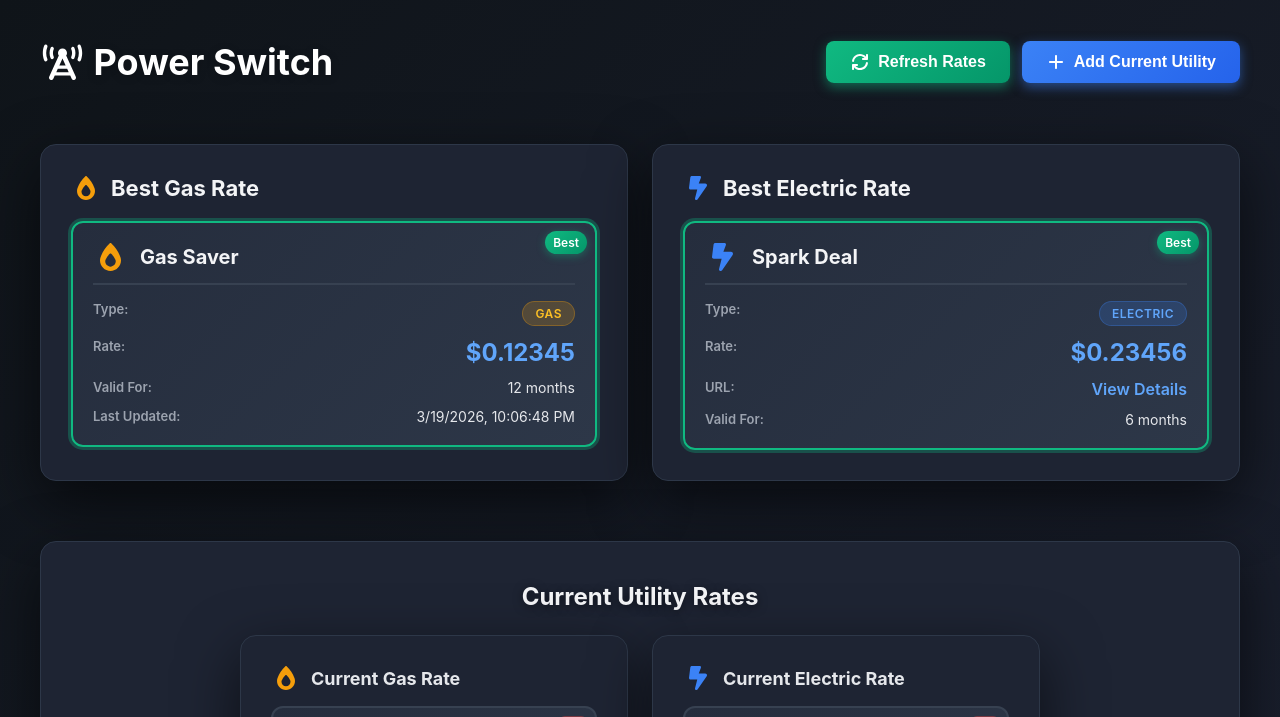
Test case: App › handleRefreshRates › button is disabled while refresh is in progress
The image size is (1280, 717).
Expected: the heading "Gas Saver" is shown, left=140, top=245, right=239, bottom=269
Click refresh button
Click the button "Refresh Rates" at (918, 62), box left=826, top=41, right=1010, bottom=83
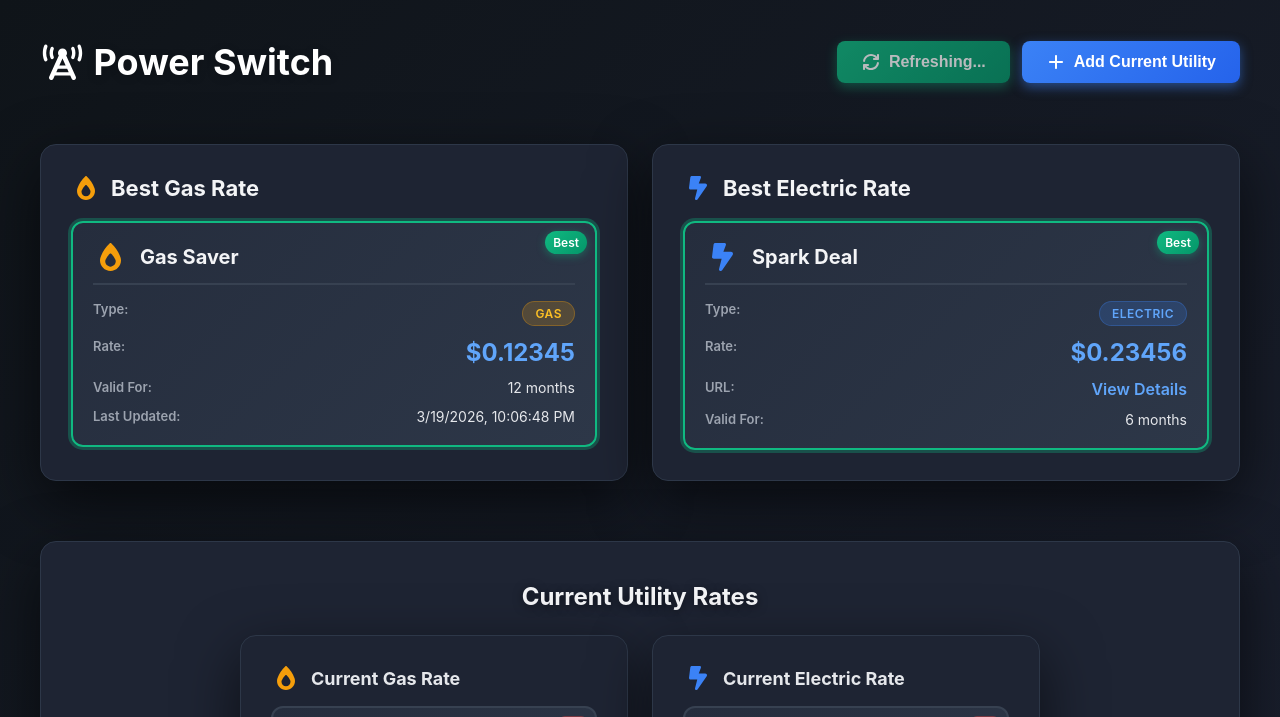
Now the button "Refreshing..." is disabled
Try clicking again - should not trigger another fetch
Click the button "Refreshing..." at (923, 62), box left=837, top=41, right=1010, bottom=83
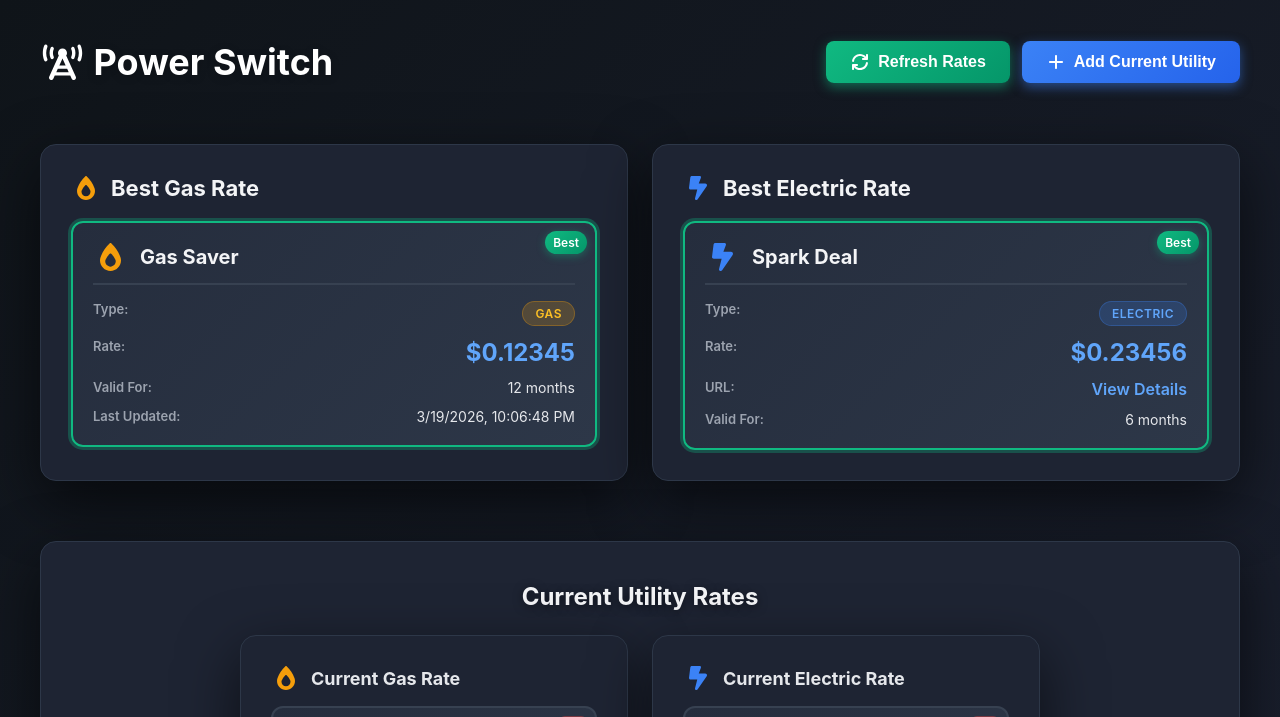
Now the button "Refresh Rates" is enabled, box left=826, top=41, right=1010, bottom=83
